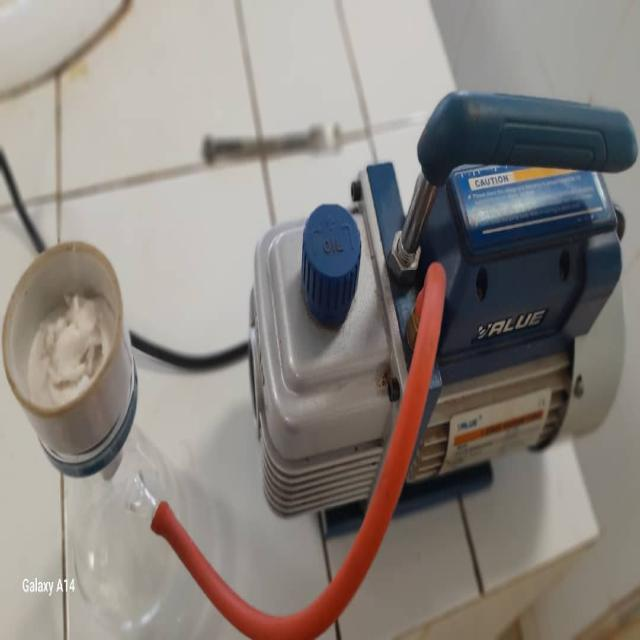Vacuum Pump: (244, 94, 632, 524)
